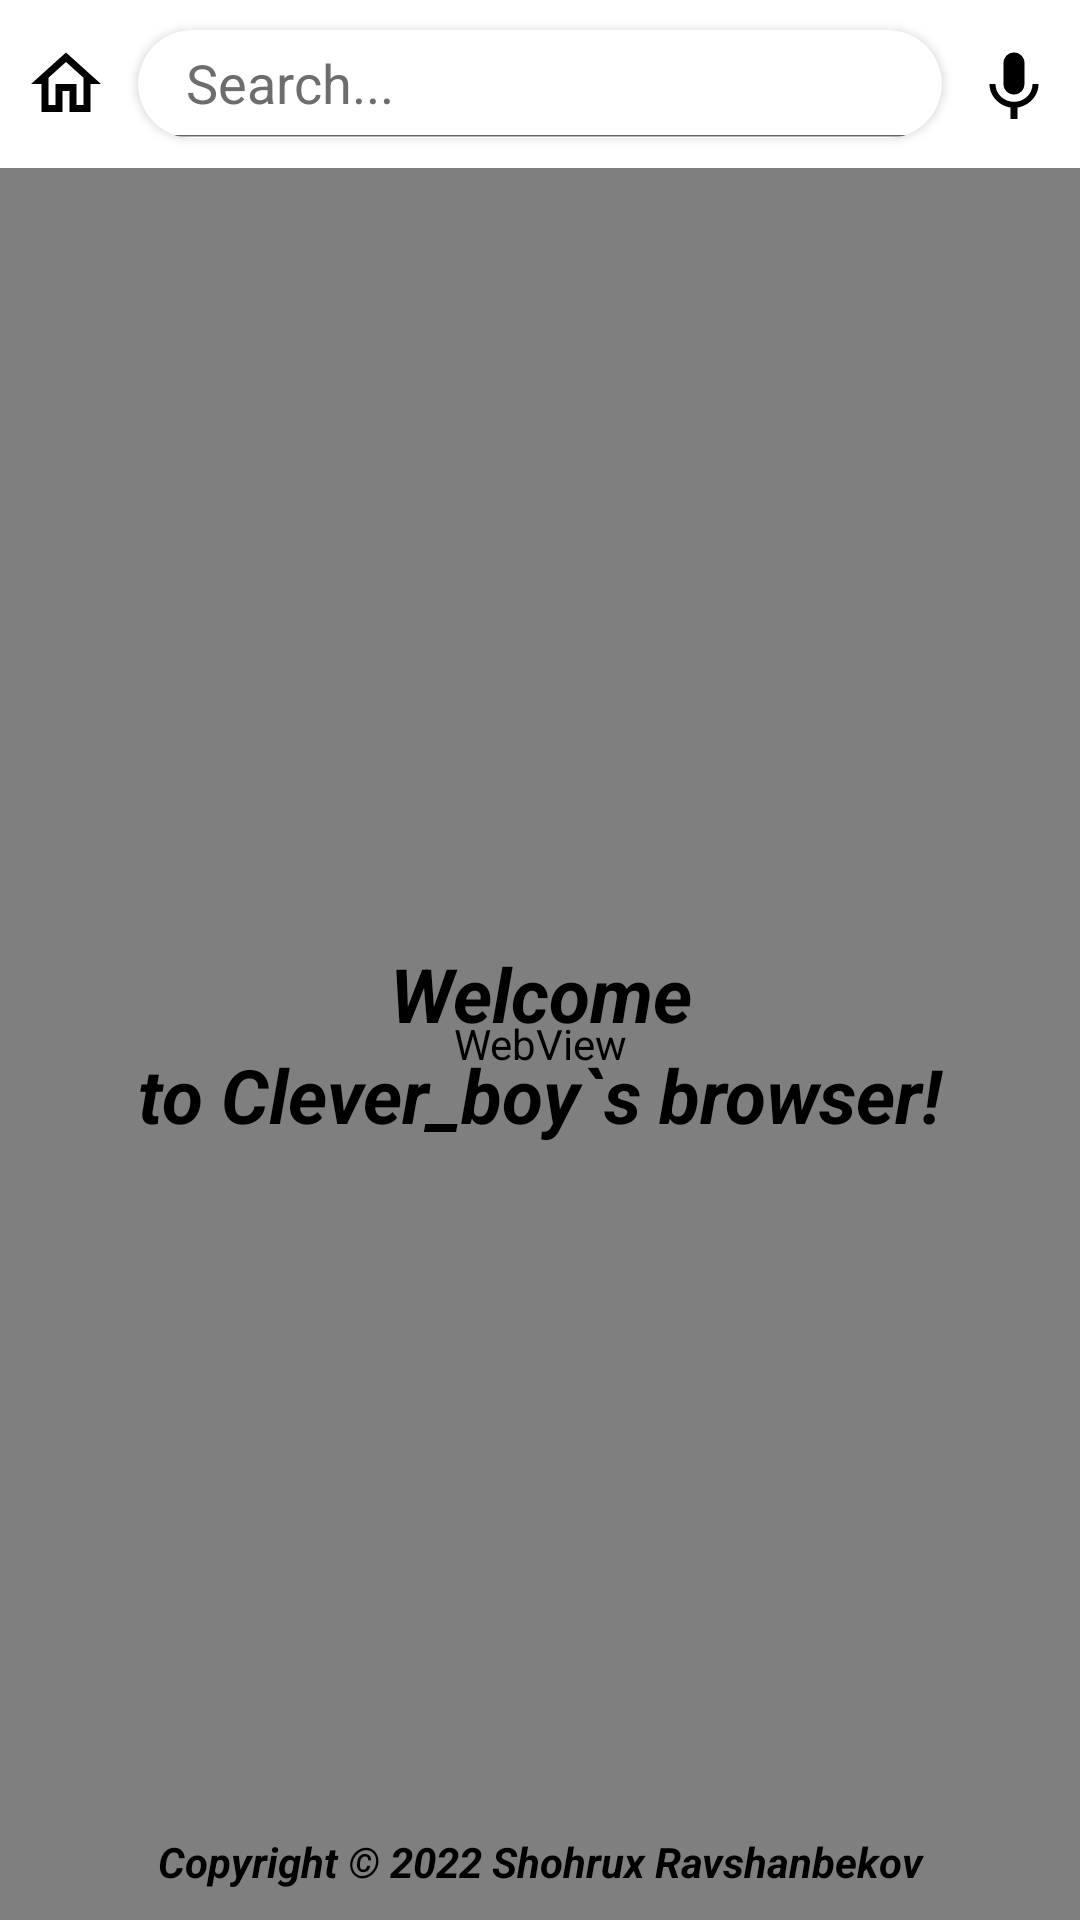

Named icons in this screenshot (1080w x 1920h) and their centers, point (x, y):
home: point (66, 82)
keyboard voice: point (1014, 85)
